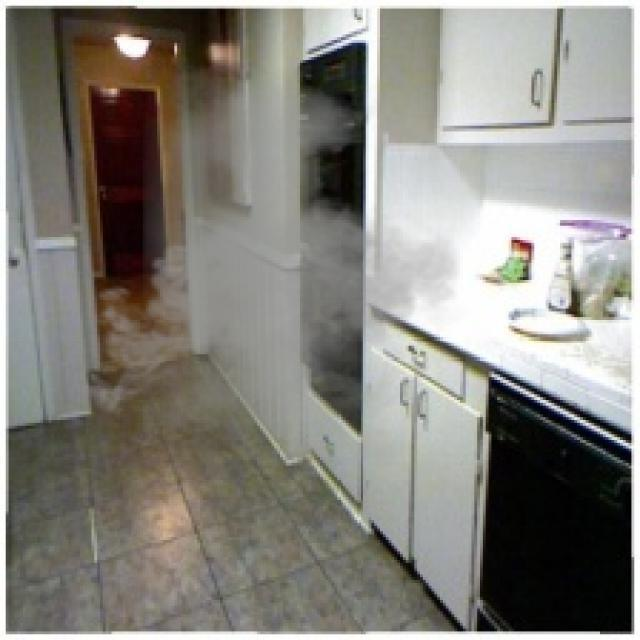Smoke: (72, 66, 477, 468)
